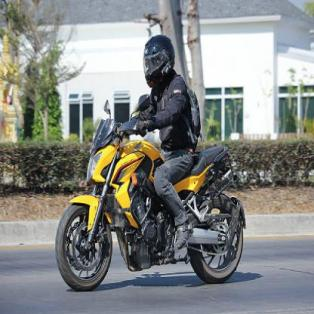Motocicleta: (55, 91, 244, 289)
